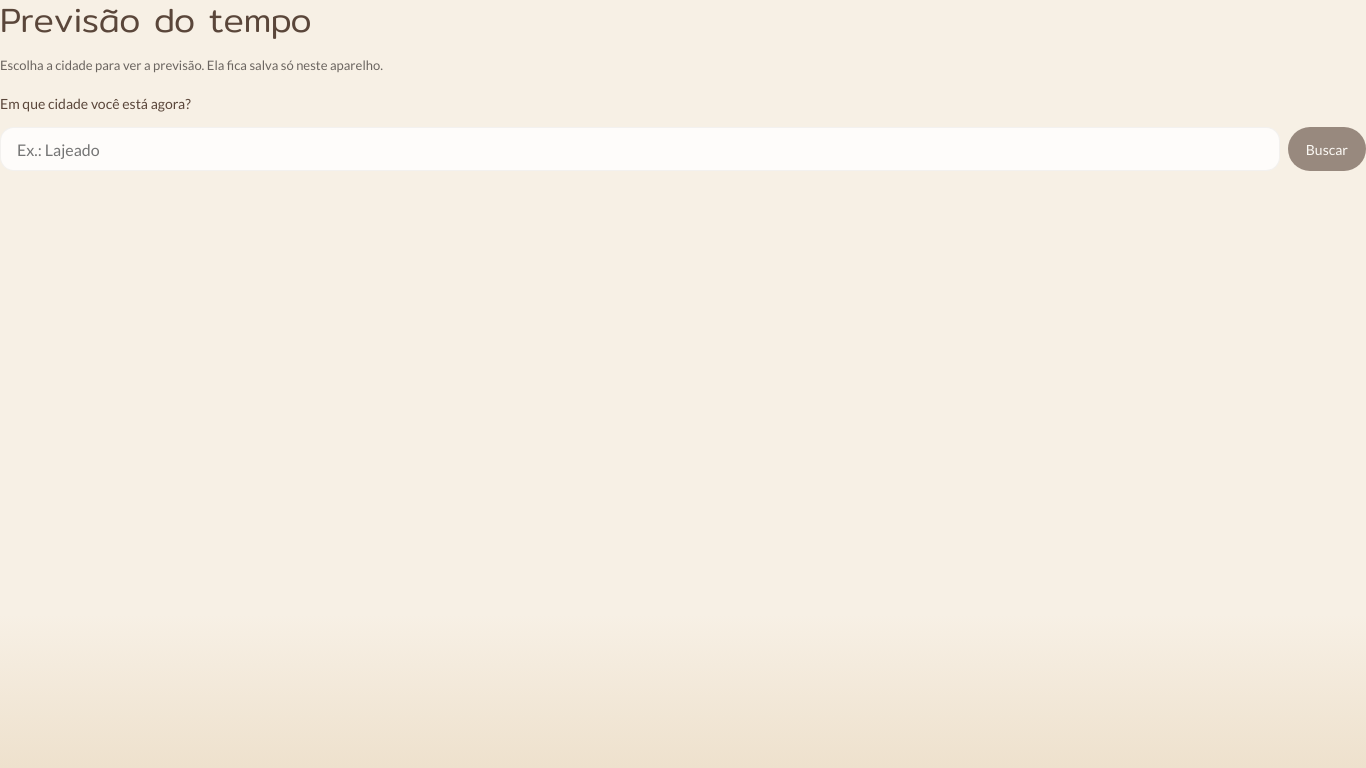
Previsão do tempo › busca a cidade, escolhe, guarda neste aparelho e mostra a previsão
Type "Lajeado" into the search field labelled "Em que cidade você está agora?".
click(640, 149); type("Lajeado")  # box top-left (0, 127), bottom-right (1280, 171)
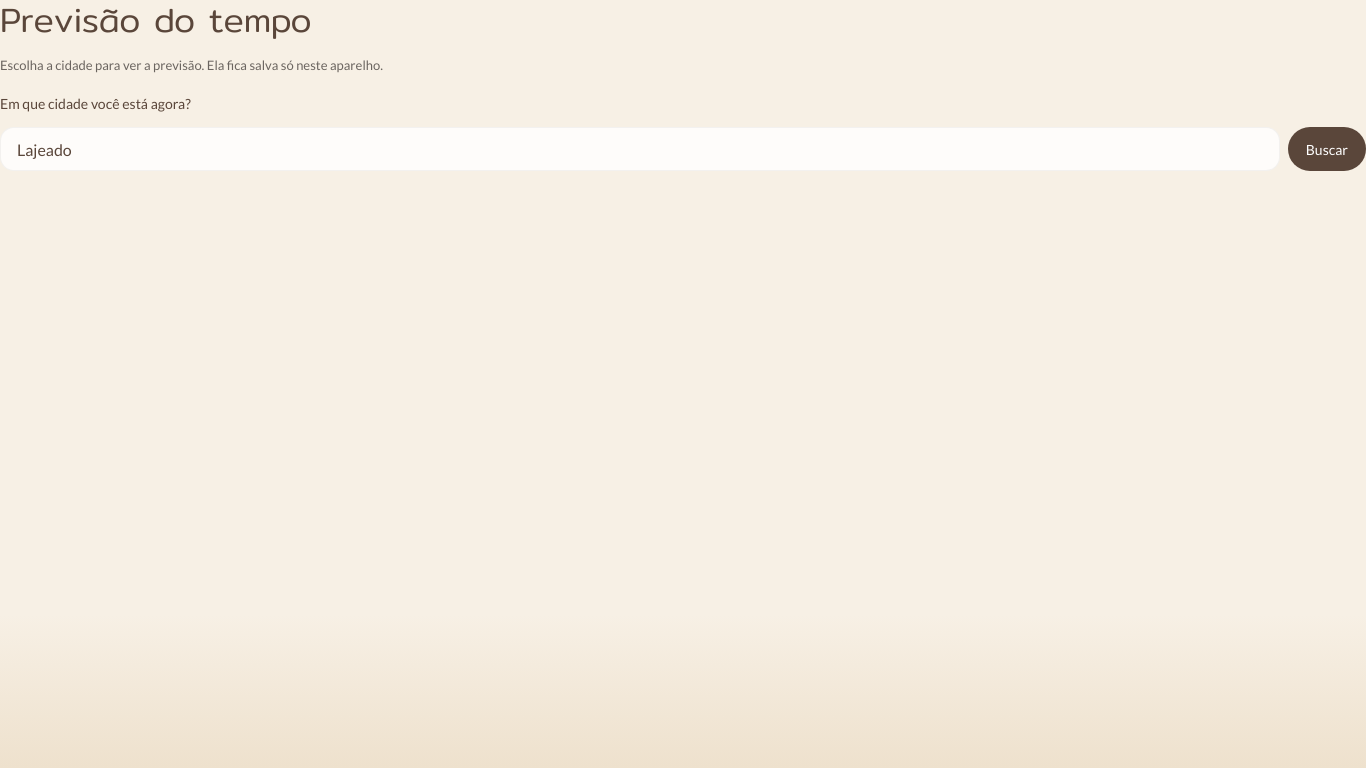
Click the button "Buscar".
click(1327, 149)  # box top-left (1288, 127), bottom-right (1365, 171)
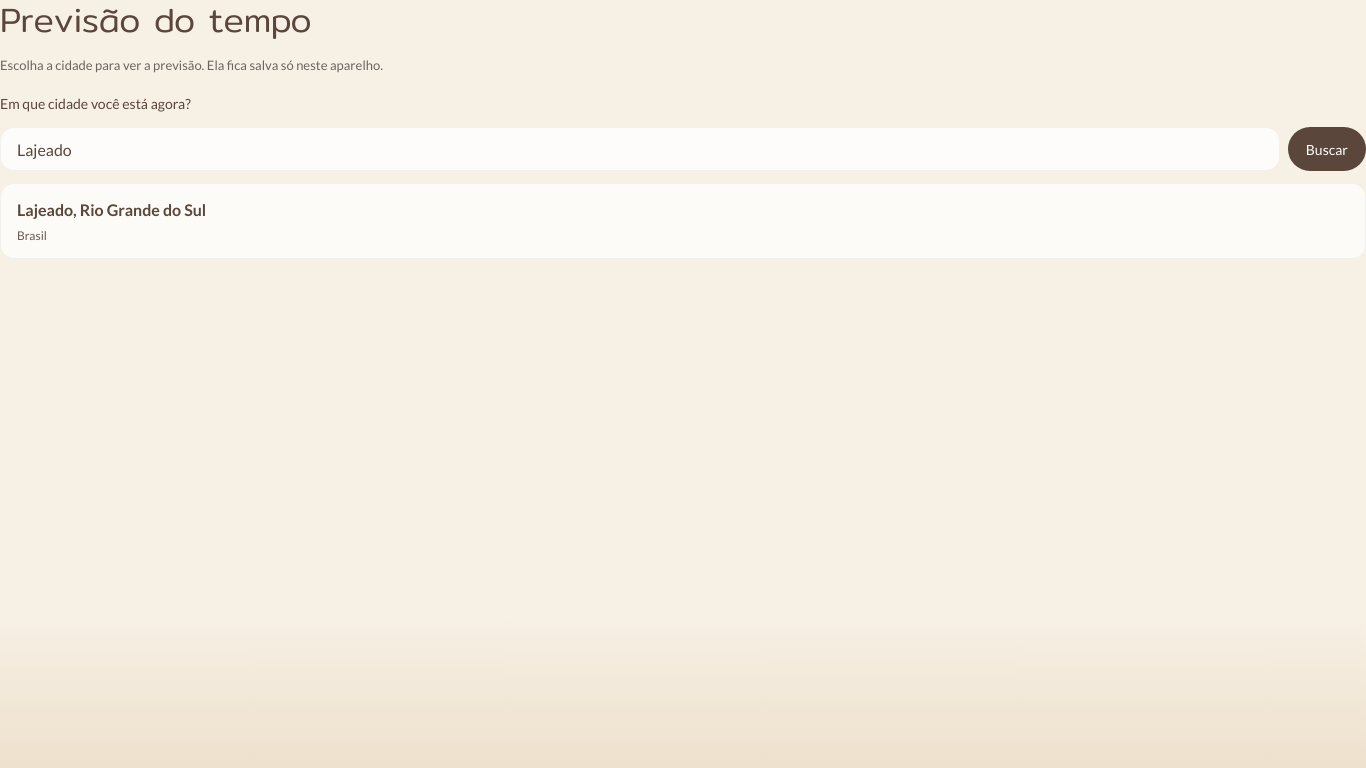
Click the button "Lajeado, Rio Grande do Sul Brasil".
click(112, 210)  # box top-left (0, 183), bottom-right (1365, 259)
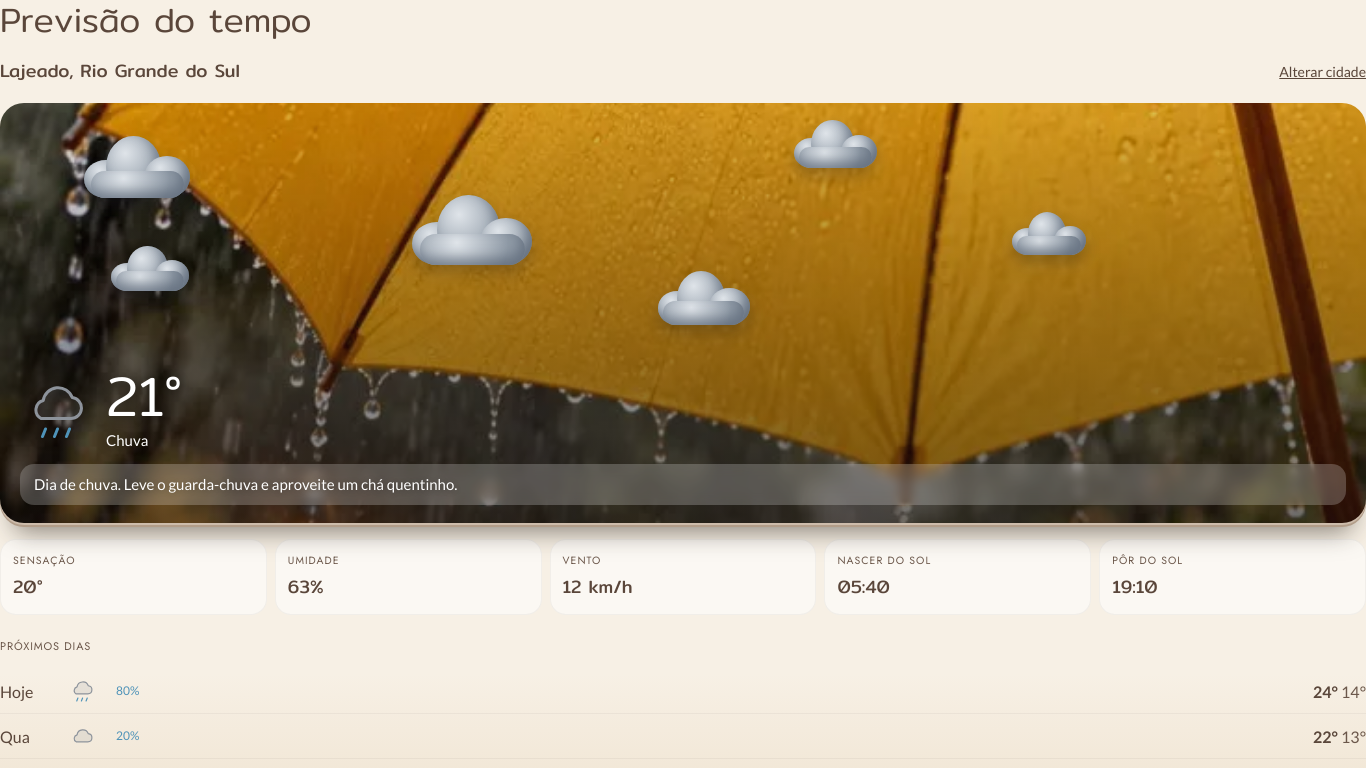
Result: the text "21°" is shown at top-left (106, 368), bottom-right (182, 424)
Result: the text "Chuva" is shown at top-left (106, 431), bottom-right (148, 449)
Result: the text "Hoje" is shown at top-left (0, 682), bottom-right (34, 701)
